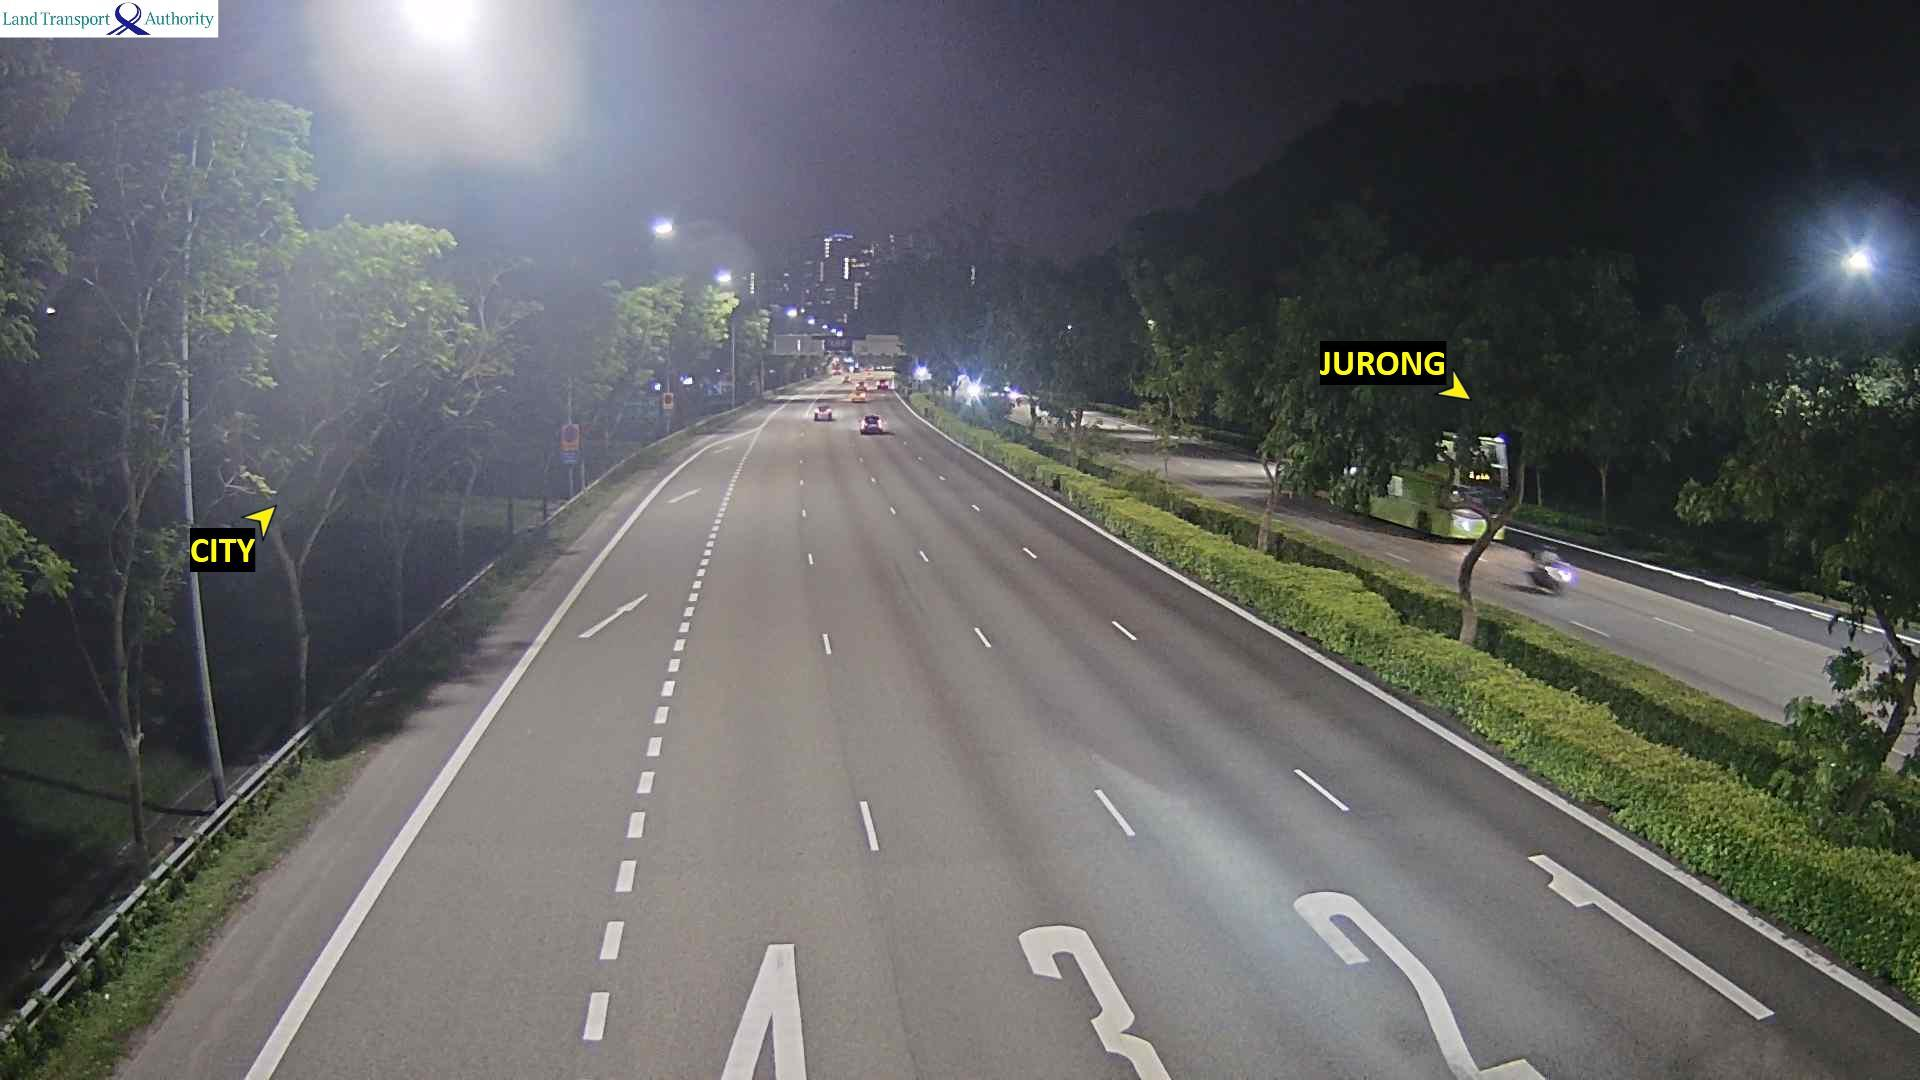incoming: (1331, 423, 1516, 545), (1544, 560, 1576, 595)
